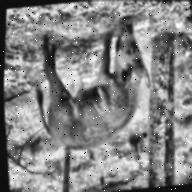boar: (16, 15, 154, 164)
